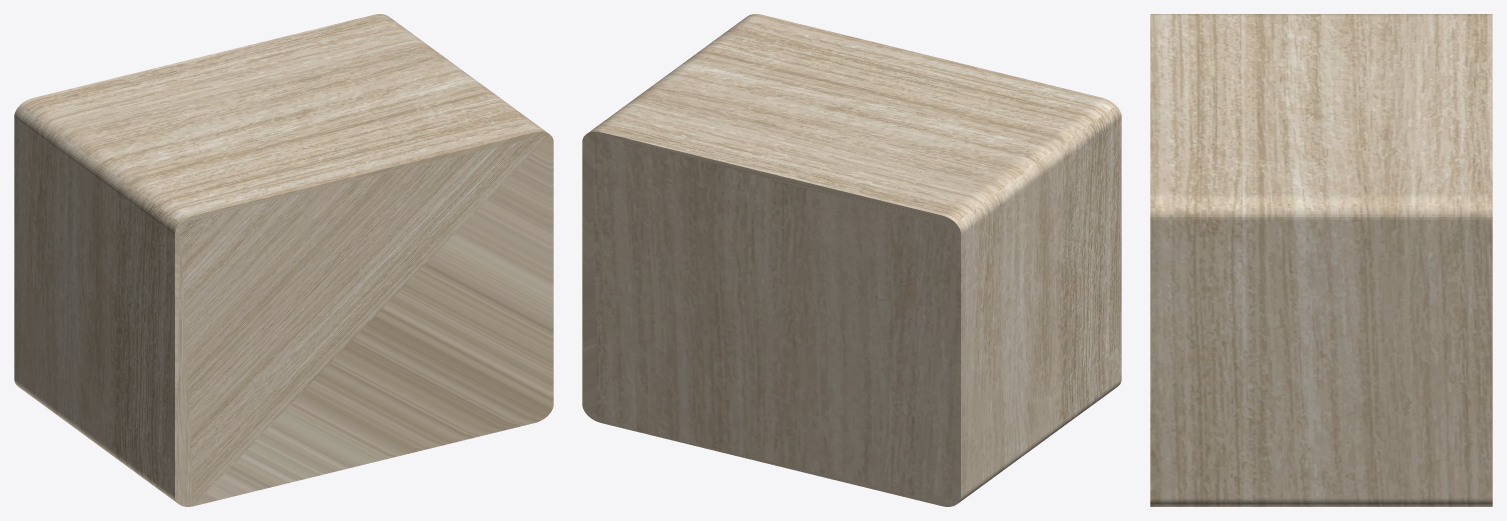
File: modeling01.glb
3 renders of one model, left to right at view 1: azimuth 30°, elevation 25°; view 2: azimuth 150°, elevation 25°; view 3: azimuth 270°, elevation 25°, orthographic. The views are drawn at different scales.
Parts seen in each view (by area): view 1: 큐브.002; view 2: 큐브.002; view 3: 큐브.002.
Part boxes in pixels (left/top/right/bottom): 큐브.002: left=14, top=14, right=553, bottom=506; 큐브.002: left=582, top=14, right=1121, bottom=506; 큐브.002: left=1150, top=14, right=1492, bottom=506.
Bounding box in the file's own units: 1.67 × 1.22 × 1.22.
Materials: 1 (1 with a texture image).
